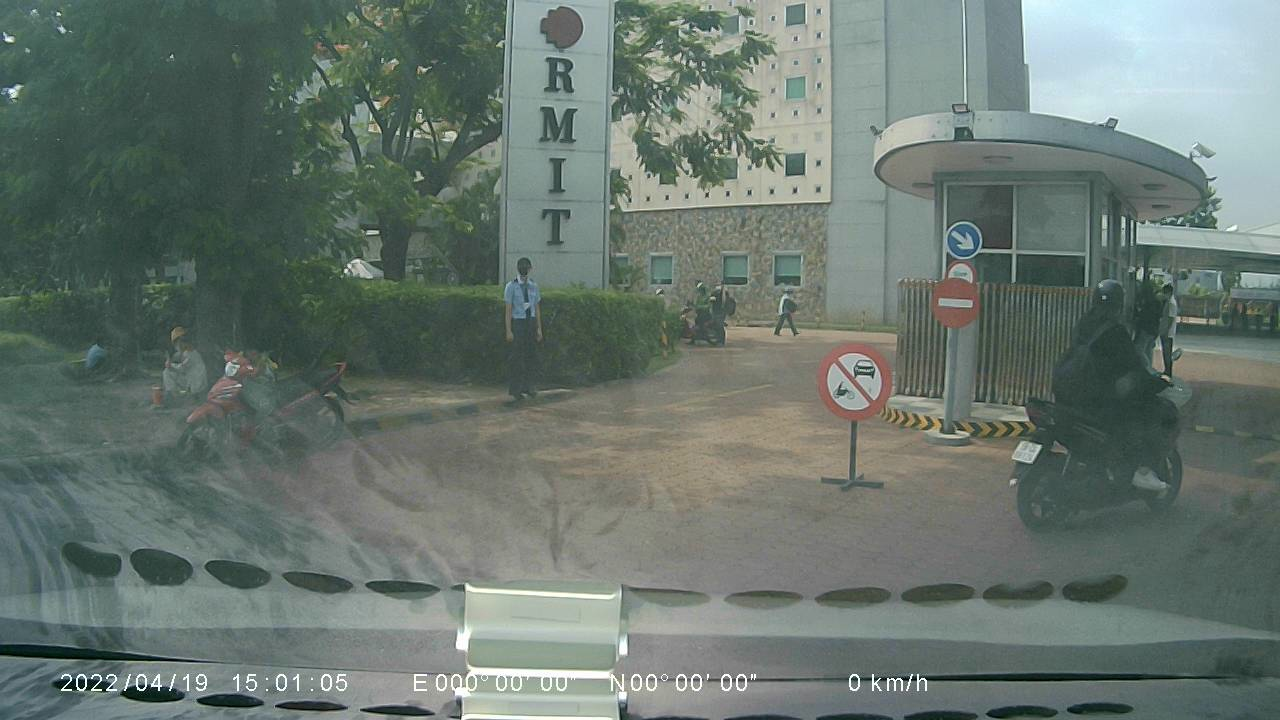Bien khac: (813, 337, 890, 423)
Cam di nguoc chieu: (929, 273, 981, 326)
Huong di phai re phai: (942, 220, 985, 256)
